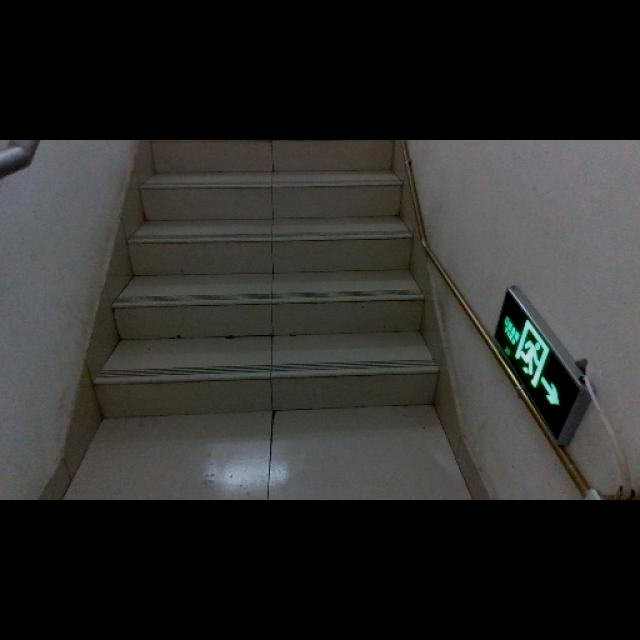stair: (87, 141, 422, 418)
